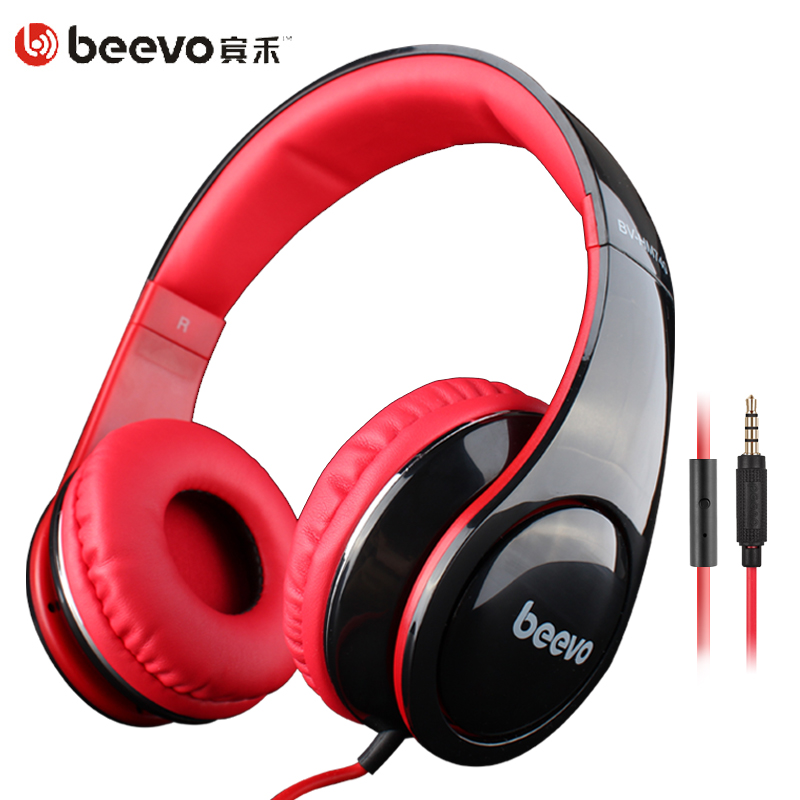Headphone: (20, 41, 687, 785)
